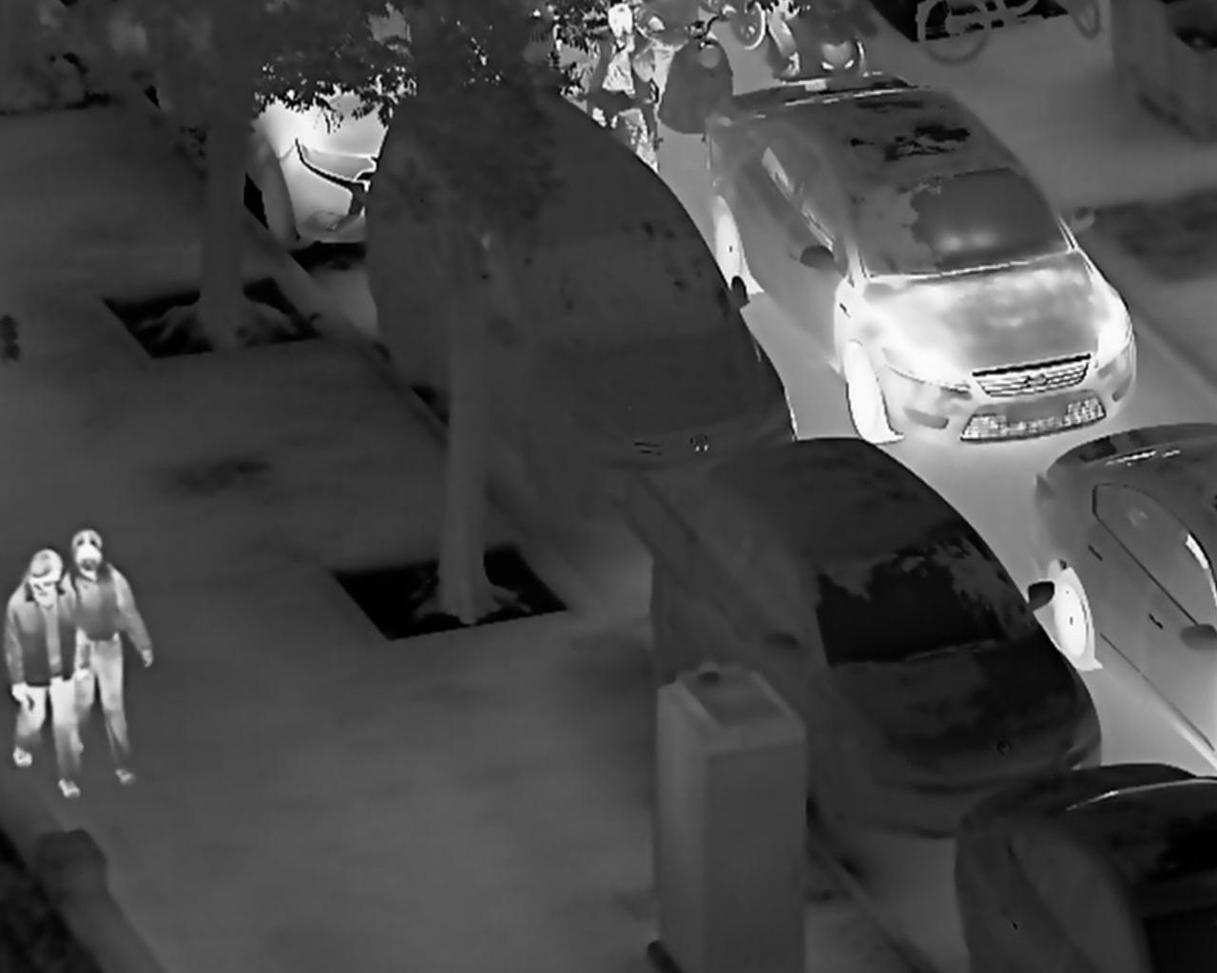person: (51, 526, 156, 789), (5, 544, 87, 806)
